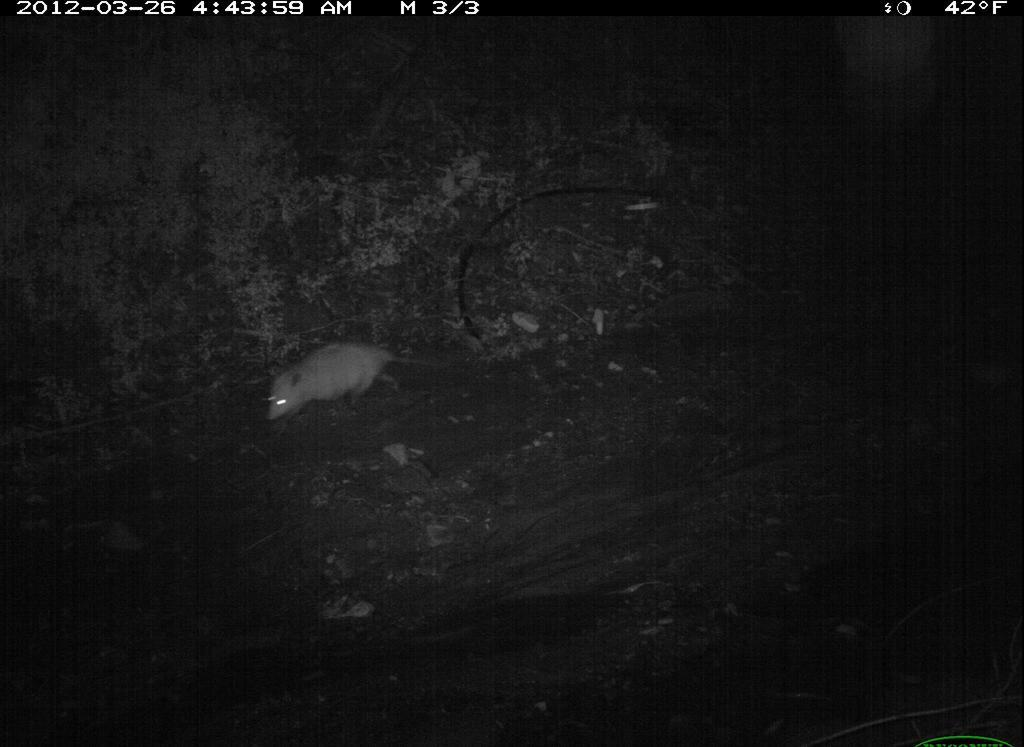opossum: (239, 327, 482, 443)
